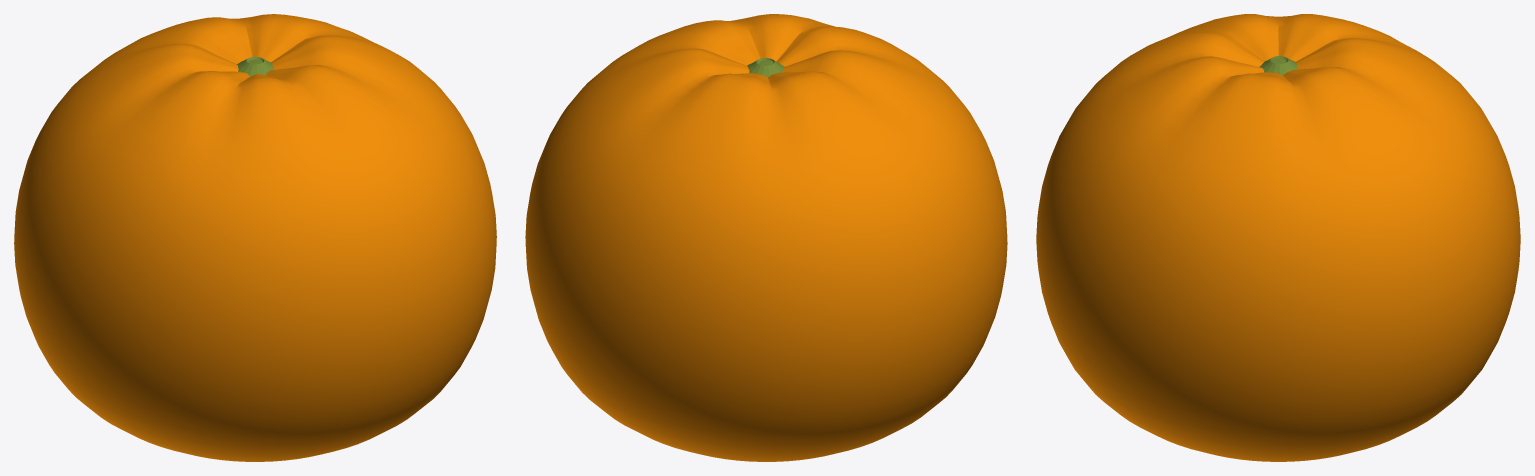
File: Orange21.fbx
The picture shows the model from 3 angles, left to right: view 1: azimuth 30°, elevation 25°; view 2: azimuth 150°, elevation 25°; view 3: azimuth 270°, elevation 25°; orthographic projection.
Visible parts, largest first — view 1: Orange_Body, Orange_Branch; view 2: Orange_Body, Orange_Branch; view 3: Orange_Body, Orange_Branch.
Part boxes in pixels (box(x1,y1,x2,y2)): Orange_Body: box(14, 14, 496, 461); Orange_Branch: box(237, 56, 274, 76); Orange_Body: box(525, 14, 1007, 461); Orange_Branch: box(747, 58, 784, 77); Orange_Body: box(1036, 14, 1520, 461); Orange_Branch: box(1259, 56, 1297, 75).
Size of the model in its own units: 197 by 173 by 197.
